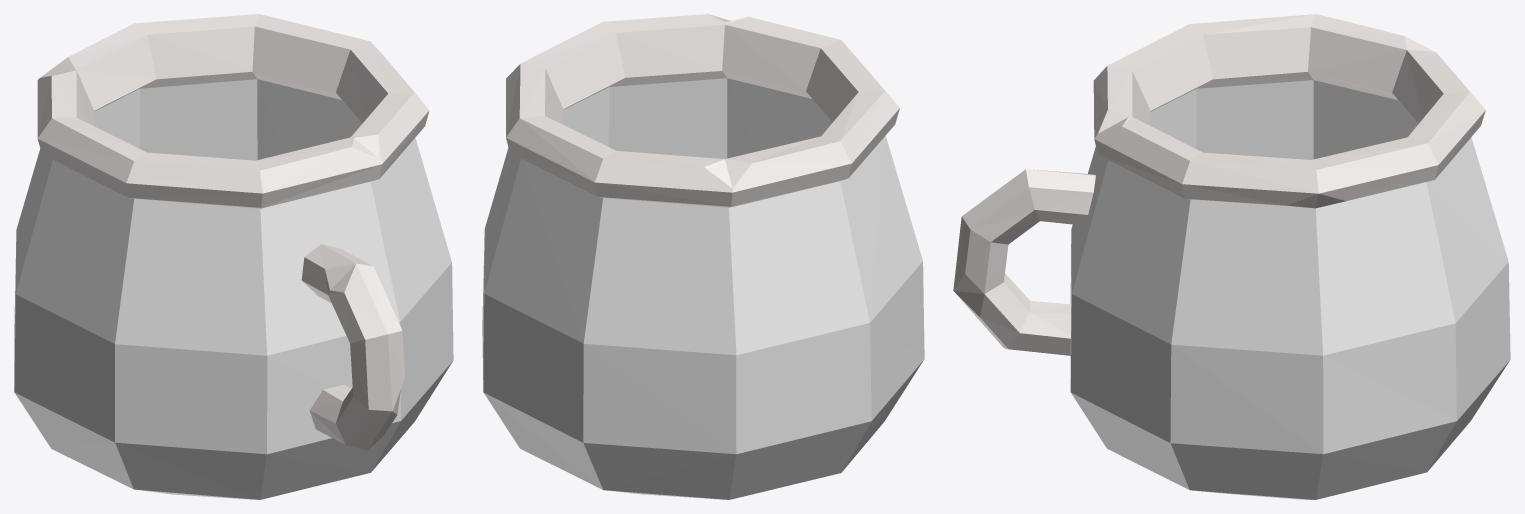
File: SFI_Cup_001.fbx
3 renders of one model, left to right at view 1: azimuth 30°, elevation 25°; view 2: azimuth 150°, elevation 25°; view 3: azimuth 270°, elevation 25°, orthographic.
Parts seen in each view (by area): view 1: SFI_Cup_001; view 2: SFI_Cup_001; view 3: SFI_Cup_001.
Part boxes in pixels (x1,y1,x2,y2): SFI_Cup_001: [14, 14, 453, 499]; SFI_Cup_001: [482, 14, 924, 499]; SFI_Cup_001: [953, 14, 1510, 499].
Size of the model in its own units: 11.25 by 10.06 by 14.03.
